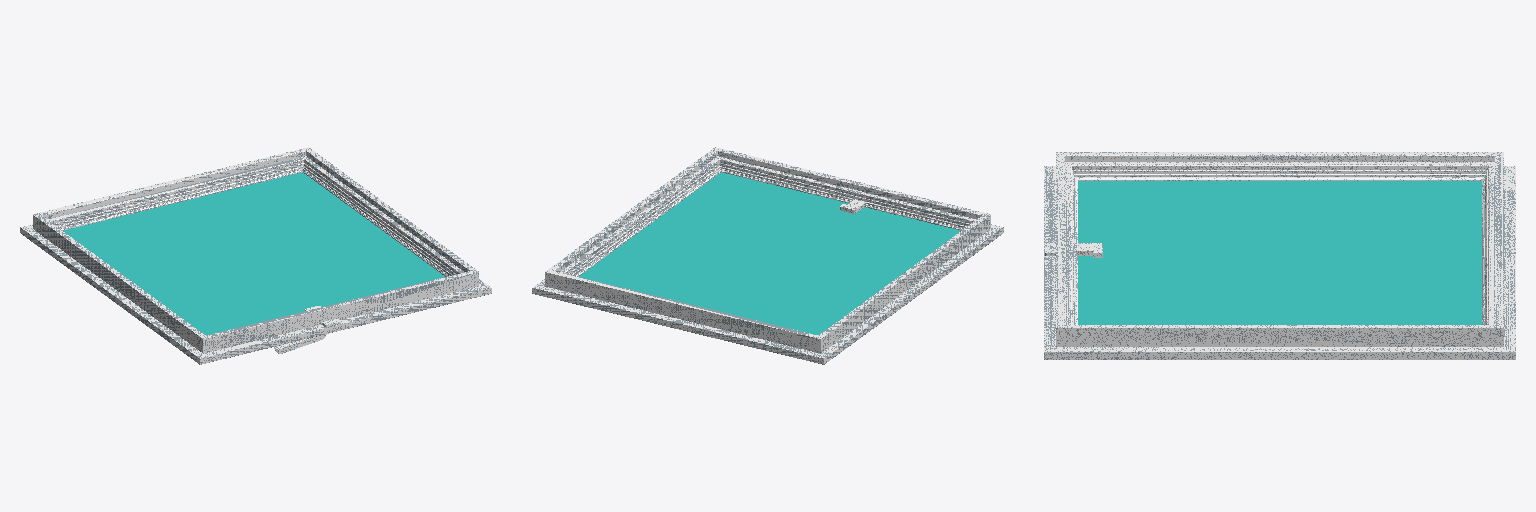
URDF robot description (window):
<?xml version="1.0" ?>
<robot name="window">
	<link name="base"/>
	<link name="link_0">
		<visual name="out-frame">
			<origin xyz="0 0 0"/>
			<geometry>
				<mesh filename="texture_dae/untitled.dae" scale="0.5 0.5 0.5"/>
			</geometry>
		</visual>
		<collision>
			<origin xyz="0 0 0"/>
			<geometry>
				<mesh filename="texture_dae/untitled.dae" scale="0.5 0.5 0.5"/>
			</geometry>
		</collision>
	</link>
	<joint name="joint_0" type="fixed">
		<origin rpy="1.570796326794897 0 -1.570796326794897" xyz="0 0 0"/>
		<child link="link_0"/>
		<parent link="base"/>
	</joint>
	<link name="link_1">
		<visual name="surf-board">
			<origin xyz="0.3803210234821304 -0.3545242375947275 0"/>
			<geometry>
				<mesh filename="texture_dae/untitled1.dae" scale="0.5 0.5 0.5"/>
			</geometry>
		</visual>
		<collision>
			<origin xyz="0.3803210234821304 -0.3545242375947275 0"/>
			<geometry>
				<mesh filename="texture_dae/untitled1.dae" scale="0.5 0.5 0.5"/>
			</geometry>
		</collision>
	</link>
	<joint name="joint_1" type="revolute">
		<origin xyz="-0.3803210234821304 0.3545242375947275 0"/>
		<axis xyz="0 -1 0"/>
		<child link="link_1"/>
		<parent link="link_0"/>
		<limit lower="0" upper="1.5079644737231006"/>
	</joint>
	<link name="link_2">
		<visual name="handle">
			<origin xyz="0 0 0"/>
			<geometry>
				<mesh filename="texture_dae/9969504-handle.dae" scale="1.3313325780978527 1.3313325780978527 1.3313325780978527"/>
			</geometry>
		</visual>
		<collision>
			<origin xyz="0 0 0"/>
			<geometry>
				<mesh filename="texture_dae/9969504-handle.dae" scale="1.3313325780978527 1.3313325780978527 1.3313325780978527"/>
			</geometry>
		</collision>
	</link>
	<joint name="joint_2" type="revolute">
		<origin xyz="0 0 0"/>
		<child link="link_2"/>
		<parent link="link_3"/>
		<axis xyz="0 0 1"/>
		<limit lower="0" upper="1.5079644737231006"/>
	</joint>
	<link name="link_3">
		<visual name="lock">
			<origin xyz="0 0 0"/>
			<geometry>
				<mesh filename="texture_dae/9969504-lock.dae" scale="1.3313325780978527 1.3313325780978527 1.3313325780978527"/>
			</geometry>
		</visual>
		<collision>
			<origin xyz="0 0 0"/>
			<geometry>
				<mesh filename="texture_dae/9969504-lock.dae" scale="1.3313325780978527 1.3313325780978527 1.3313325780978527"/>
			</geometry>
		</collision>
	</link>
	<joint name="joint_3" type="fixed">
		<origin xyz="0.7320000182271464 -0.3545242375947275 0.02898578537299734"/>
		<child link="link_3"/>
		<parent link="link_1"/>
	</joint>
</robot>

--- Render facts (derived) ---
The picture shows the robot from 3 angles, left to right: view 1: azimuth 30°, elevation 25°; view 2: azimuth 150°, elevation 25°; view 3: azimuth 270°, elevation 25°; orthographic projection.
Model window with 5 links and 4 joints (2 revolute, 2 fixed), rooted at base, posed all joints at 0.
Visible links, largest first — view 1: link_1, link_0; view 2: link_1, link_0; view 3: link_1, link_0.
Link boxes in pixels (box(x1,y1,x2,y2)): link_1: box(33, 147, 478, 353); link_0: box(20, 224, 491, 364); link_1: box(545, 147, 990, 353); link_0: box(532, 224, 1003, 364); link_1: box(1056, 152, 1503, 346); link_0: box(1044, 166, 1515, 359).
Bounding box of the posed robot: 0.7517 × 0.8017 × 0.081 m (x, y, z).
4 mesh visuals loaded from 4 distinct referenced files (4 Collada DAE).
